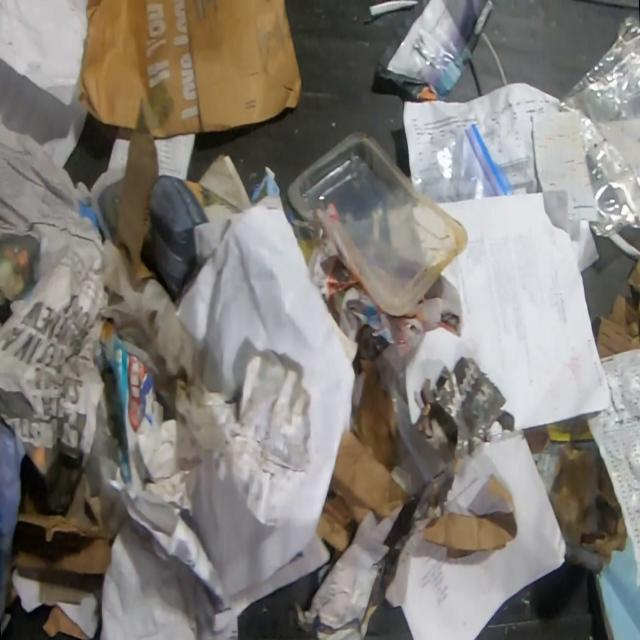cardboard: (107, 350, 312, 529), (316, 359, 412, 551), (10, 464, 112, 575), (548, 444, 629, 576), (420, 470, 518, 560), (114, 100, 158, 282), (595, 252, 640, 360)
rigid_plastic: (286, 126, 468, 317)
soft_plastic: (559, 13, 640, 237), (96, 238, 206, 393), (407, 122, 516, 204)
